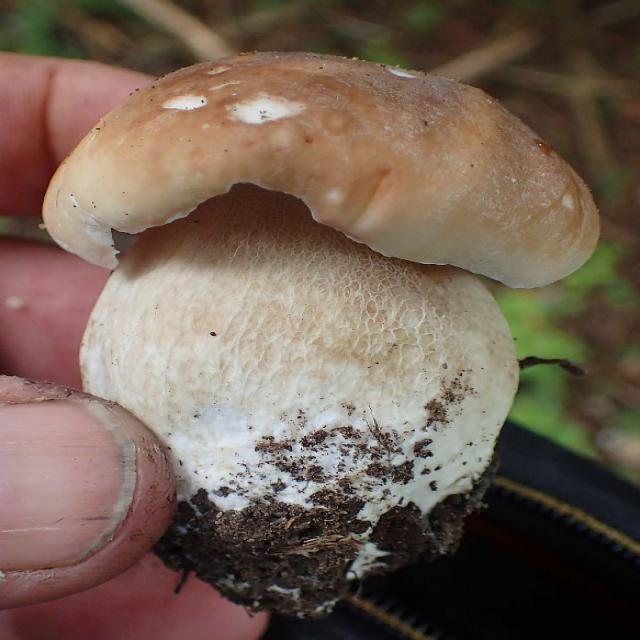Boletus: (47, 55, 597, 615)
